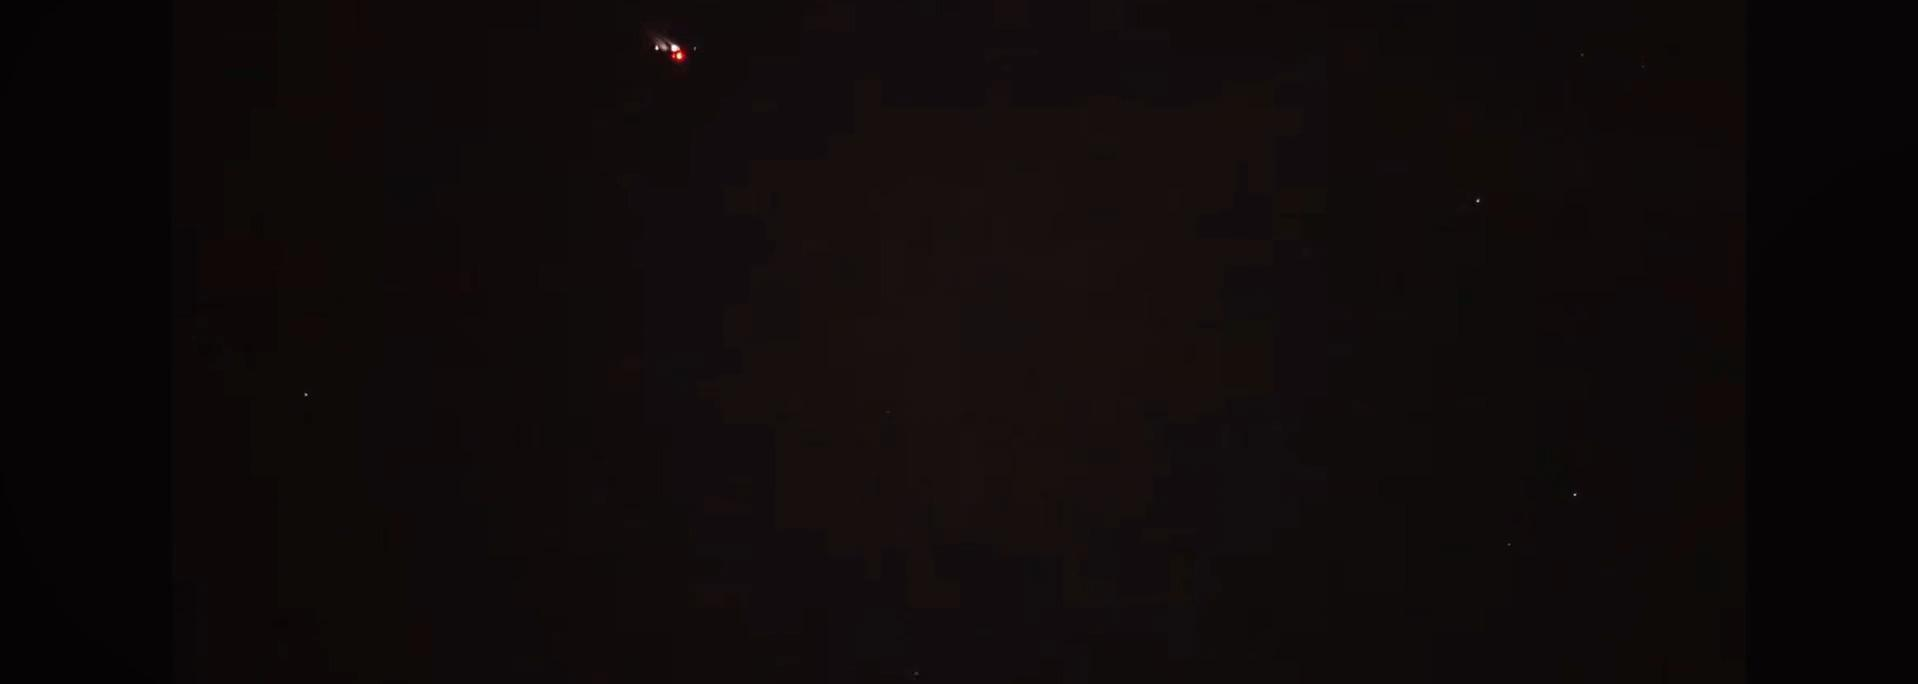Plane: (609, 12, 727, 88)
